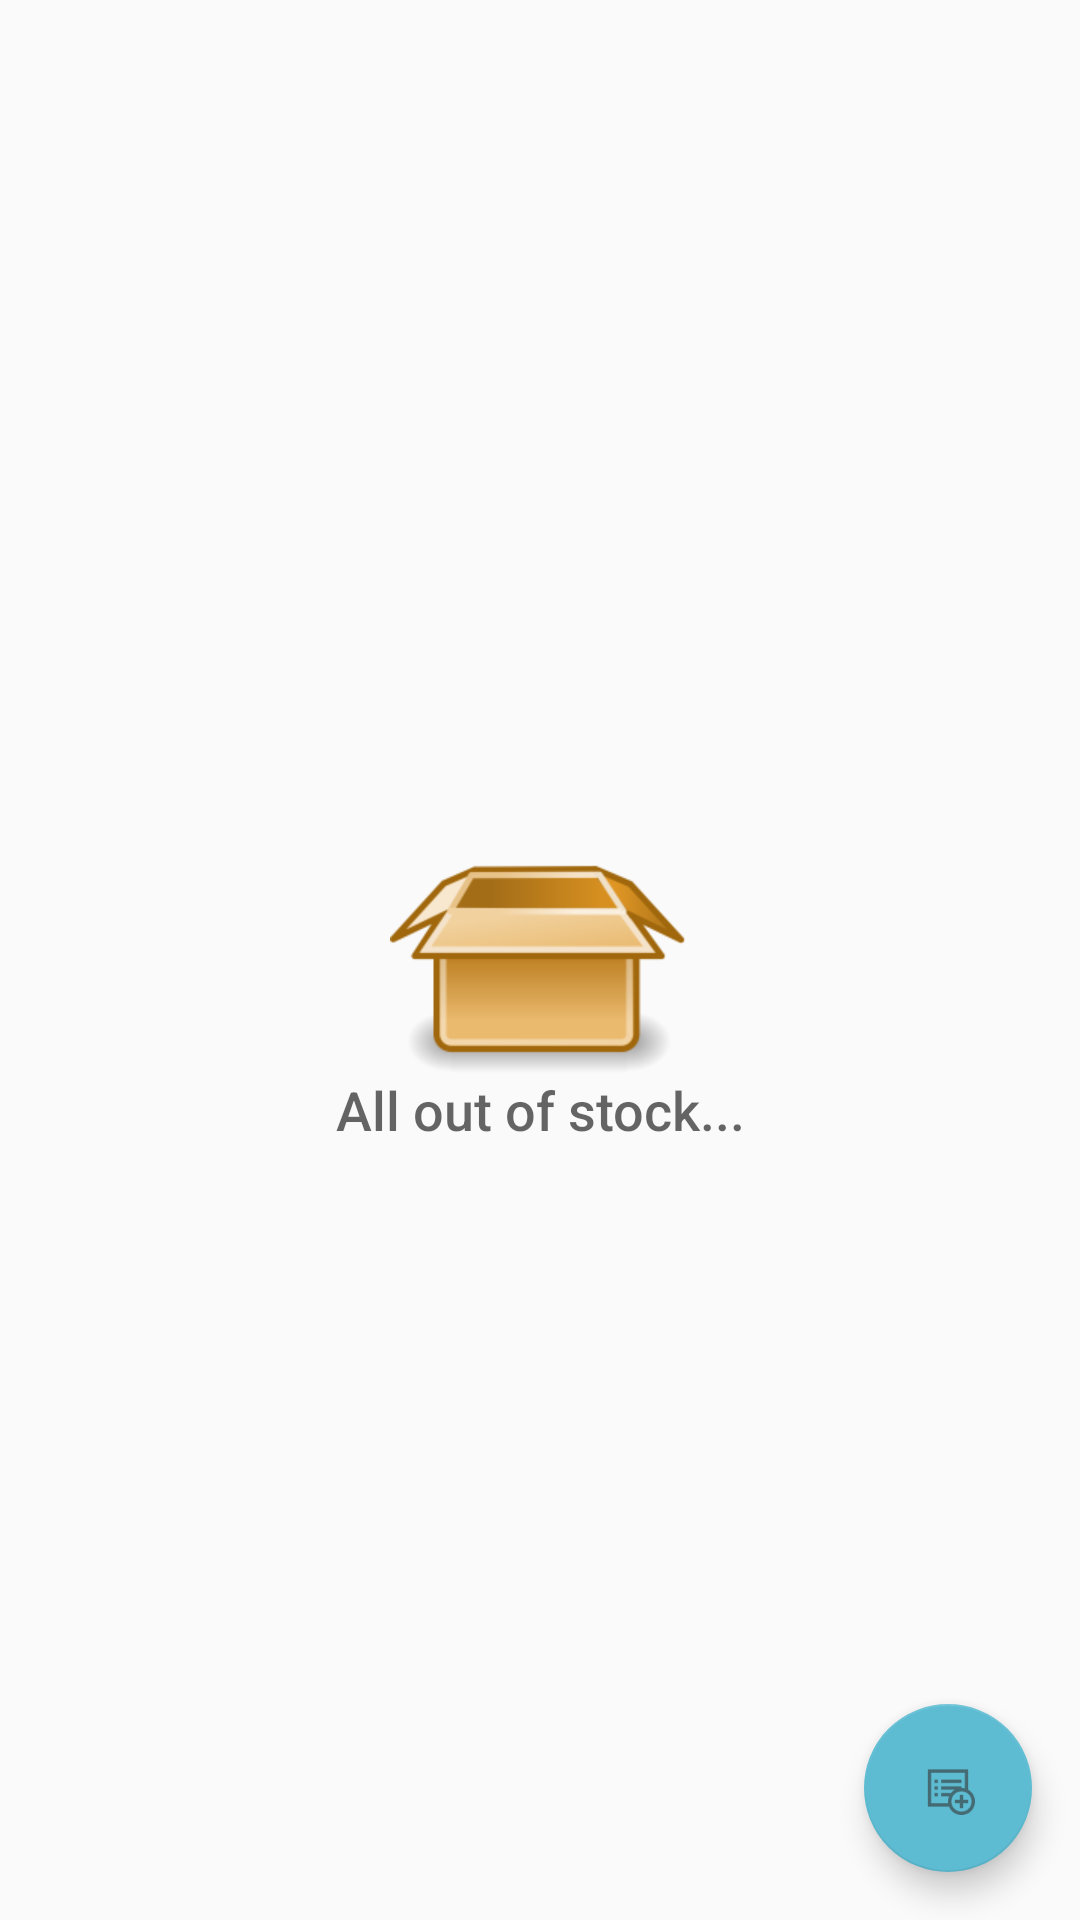

Named icons in this screenshot (1080px×1920px) and their centers, (x=x, y=y):
add item: (x=948, y=1788)
